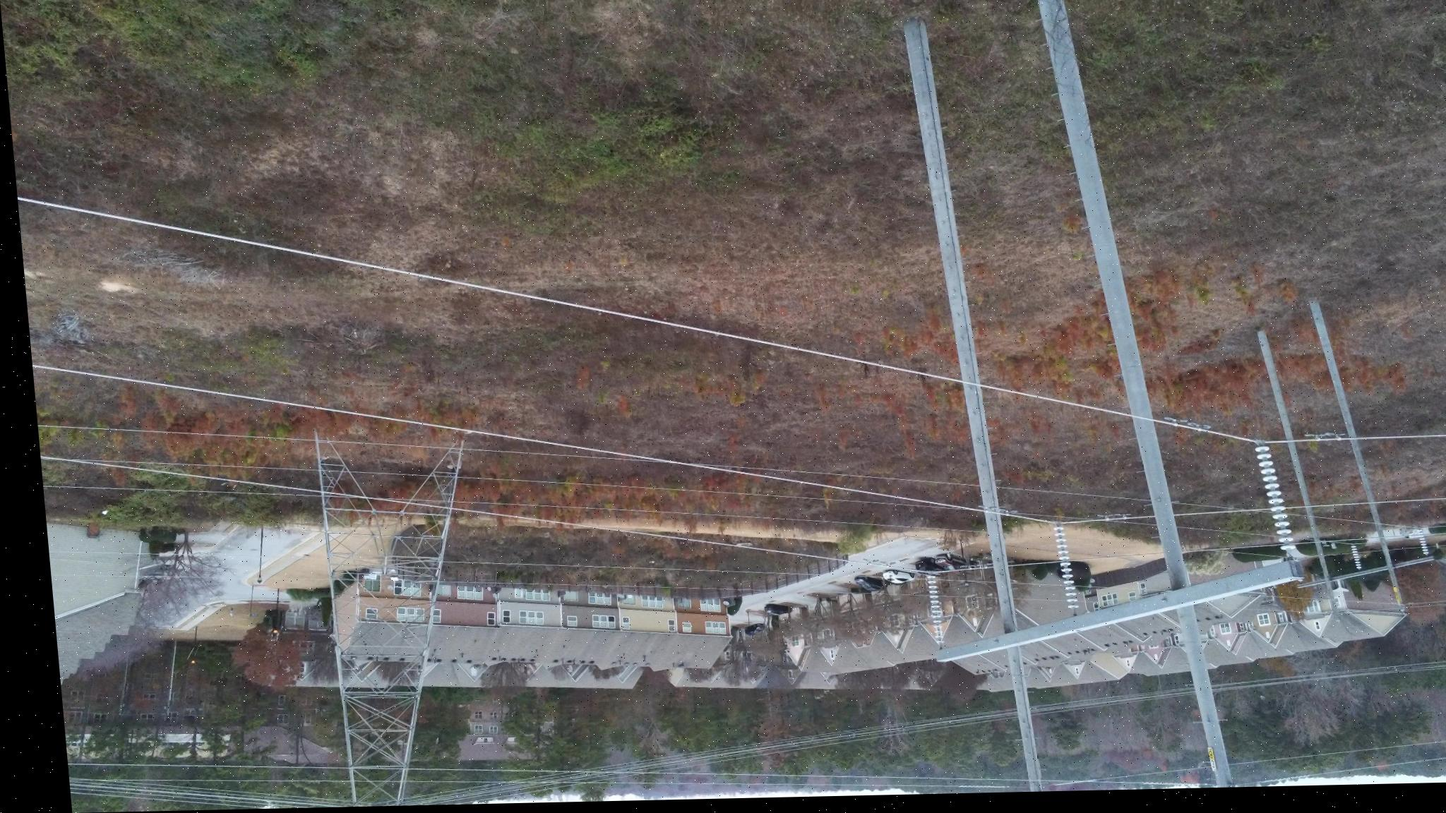tower: (311, 427, 502, 807)
